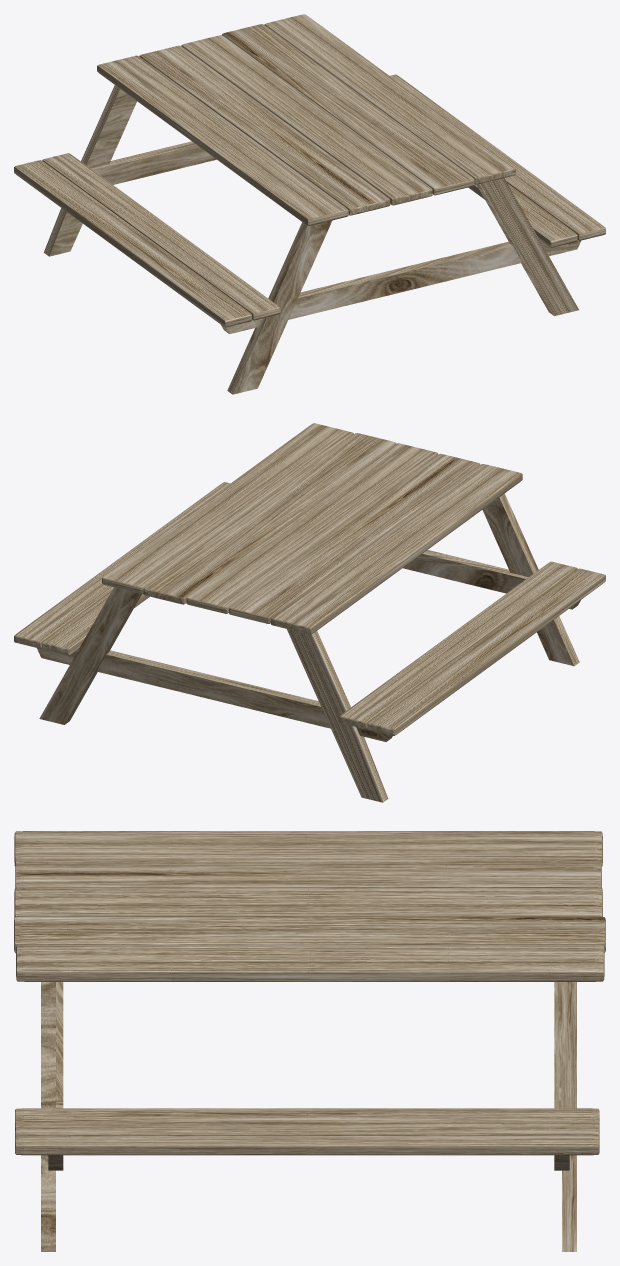
The model's file is PicnicTable_V1.glb.
3 views of the same model, one above another, from view 1: azimuth 30°, elevation 25°; view 2: azimuth 150°, elevation 25°; view 3: azimuth 270°, elevation 25° (orthographic). The views are drawn at different scales.
Visible parts, largest first — view 1: Plane.018, Plane.016, Plane.021, Plane.019, Plane.022, Plane.020, Plane.014, Plane.017, Plane.012, Plane.023, Plane.024; view 2: Plane.012, Plane.016, Plane.021, Plane.019, Plane.022, Plane.020, Plane.014, Plane.017, Plane.018, Plane.023, Plane.024; view 3: Plane.020, Plane.022, Plane.019, Plane.016, Plane.021, Plane.023, Plane.024, Plane.012, Plane.018.
Part boxes in pixels (x1=…): Plane.018: x1=221, y1=178, x2=581, y2=394; Plane.016: x1=97, y1=55, x2=348, y2=225; Plane.021: x1=181, y1=35, x2=432, y2=205; Plane.019: x1=222, y1=24, x2=474, y2=195; Plane.022: x1=139, y1=45, x2=390, y2=215; Plane.020: x1=264, y1=14, x2=515, y2=184; Plane.014: x1=14, y1=160, x2=251, y2=327; Plane.017: x1=42, y1=153, x2=280, y2=320; Plane.012: x1=44, y1=85, x2=216, y2=256; Plane.023: x1=390, y1=74, x2=605, y2=240; Plane.024: x1=468, y1=184, x2=577, y2=247; Plane.012: x1=37, y1=587, x2=392, y2=802; Plane.016: x1=270, y1=464, x2=522, y2=634; Plane.021: x1=186, y1=443, x2=438, y2=613; Plane.019: x1=143, y1=433, x2=396, y2=604; Plane.022: x1=229, y1=453, x2=480, y2=623; Plane.020: x1=102, y1=423, x2=353, y2=593; Plane.014: x1=367, y1=568, x2=605, y2=735; Plane.017: x1=339, y1=561, x2=577, y2=728; Plane.018: x1=403, y1=493, x2=580, y2=666; Plane.023: x1=14, y1=482, x2=230, y2=648; Plane.024: x1=42, y1=592, x2=149, y2=655; Plane.020: x1=16, y1=945, x2=604, y2=981; Plane.022: x1=15, y1=859, x2=601, y2=888; Plane.019: x1=14, y1=916, x2=605, y2=953; Plane.016: x1=14, y1=831, x2=602, y2=866; Plane.021: x1=14, y1=888, x2=602, y2=918; Plane.023: x1=15, y1=1127, x2=599, y2=1155; Plane.024: x1=15, y1=1108, x2=599, y2=1129; Plane.012: x1=554, y1=982, x2=576, y2=1251; Plane.018: x1=41, y1=982, x2=63, y2=1251.
Size of the model in its own units: 2.08 by 0.8664 by 2.01.
Materials: 1 (1 with a texture image).
